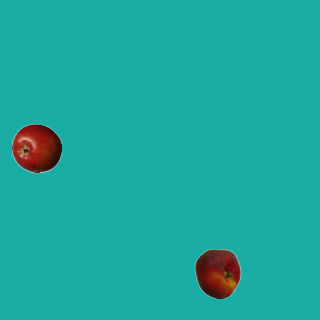Apple Braeburn: (11, 123, 61, 173)
Nectarine Flat: (192, 248, 242, 298)
